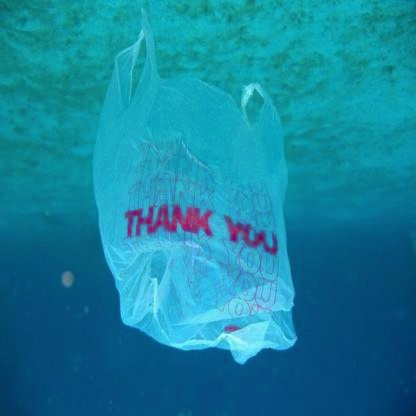pbag: (76, 4, 300, 367)
